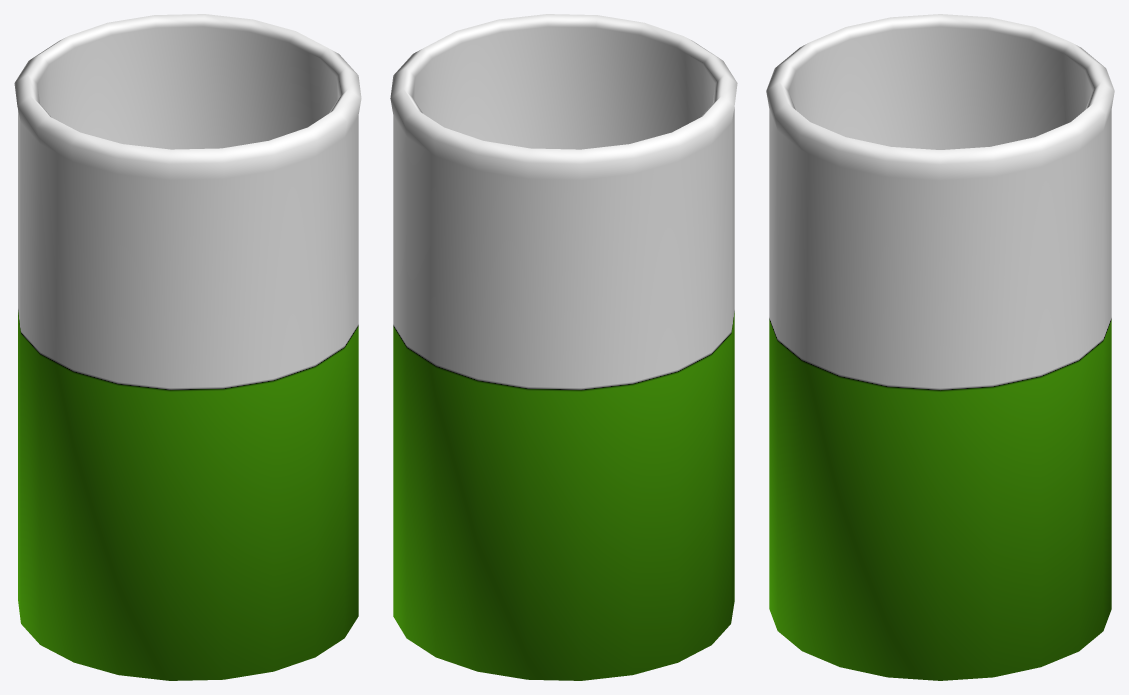
The model's file is LabDesk_Object_BeakerFill.fbx.
3 views of the same model, side by side, from view 1: azimuth 30°, elevation 25°; view 2: azimuth 150°, elevation 25°; view 3: azimuth 270°, elevation 25° (orthographic).
Parts seen in each view (by area): view 1: polySurface3; view 2: polySurface3; view 3: polySurface3.
Part boxes in pixels (box(x1,y1,x2,y2)): polySurface3: box(14, 14, 361, 680); polySurface3: box(390, 14, 737, 680); polySurface3: box(766, 14, 1114, 680).
Bounding box in the file's own units: 5.79 × 9.65 × 5.79.
Materials: 1 (1 with a texture image).
